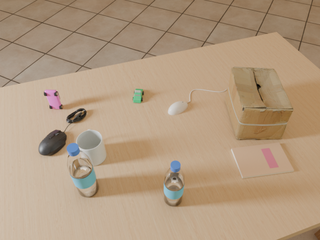book: (231, 143, 294, 178)
bottle: (67, 143, 99, 197), (164, 161, 184, 206)
box: (225, 67, 293, 140)
cup: (76, 129, 106, 166)
mouse: (39, 130, 66, 156), (168, 101, 188, 115)
toy_car: (44, 90, 63, 109), (133, 89, 144, 103)
